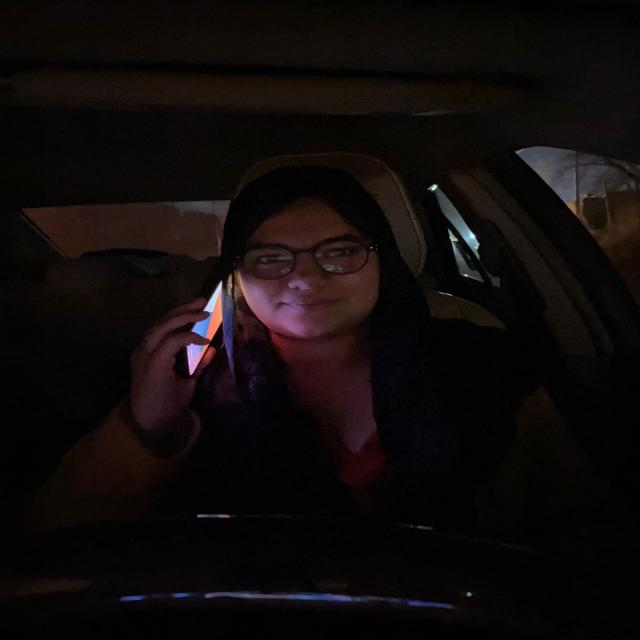mobile: (180, 271, 234, 388)
person: (221, 164, 407, 344)
